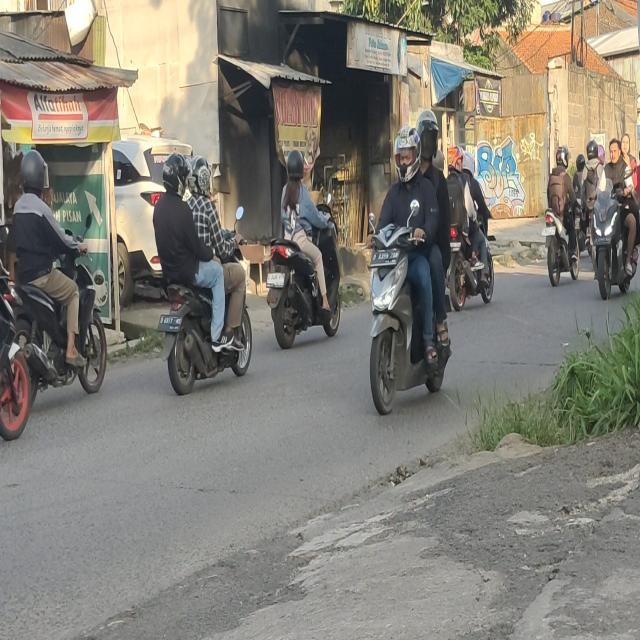helmet: (392, 126, 422, 177), (161, 154, 190, 200), (22, 150, 48, 199), (418, 110, 439, 164), (190, 153, 213, 198), (286, 146, 305, 180), (446, 142, 464, 176), (462, 148, 477, 178), (556, 146, 570, 168), (586, 140, 598, 161), (435, 147, 444, 171), (598, 144, 606, 166), (576, 154, 585, 170)
no-helmet: (609, 141, 621, 163), (620, 134, 630, 154)
